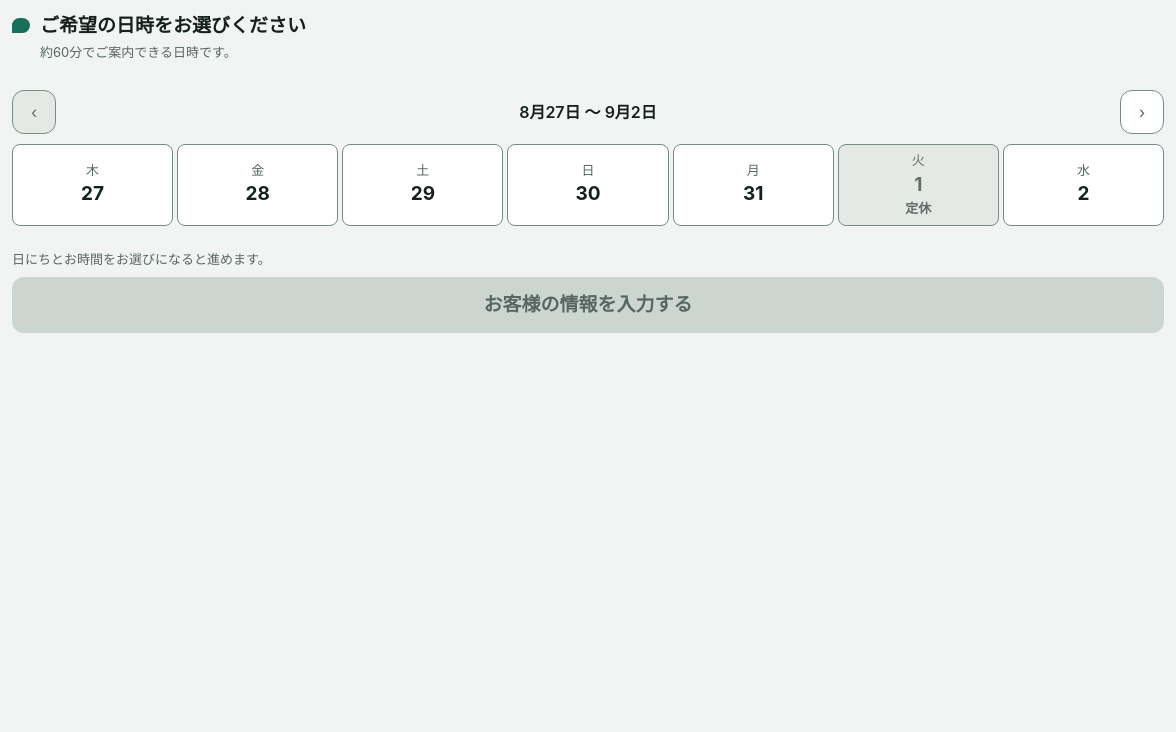
Test: 日時を選ぶ › 押せない理由は色だけでなく文字でも分かる
The image size is (1176, 732).
Step 1. Click the button named "8月29日（土）" → x=423, y=185, box [342, 144, 503, 226]
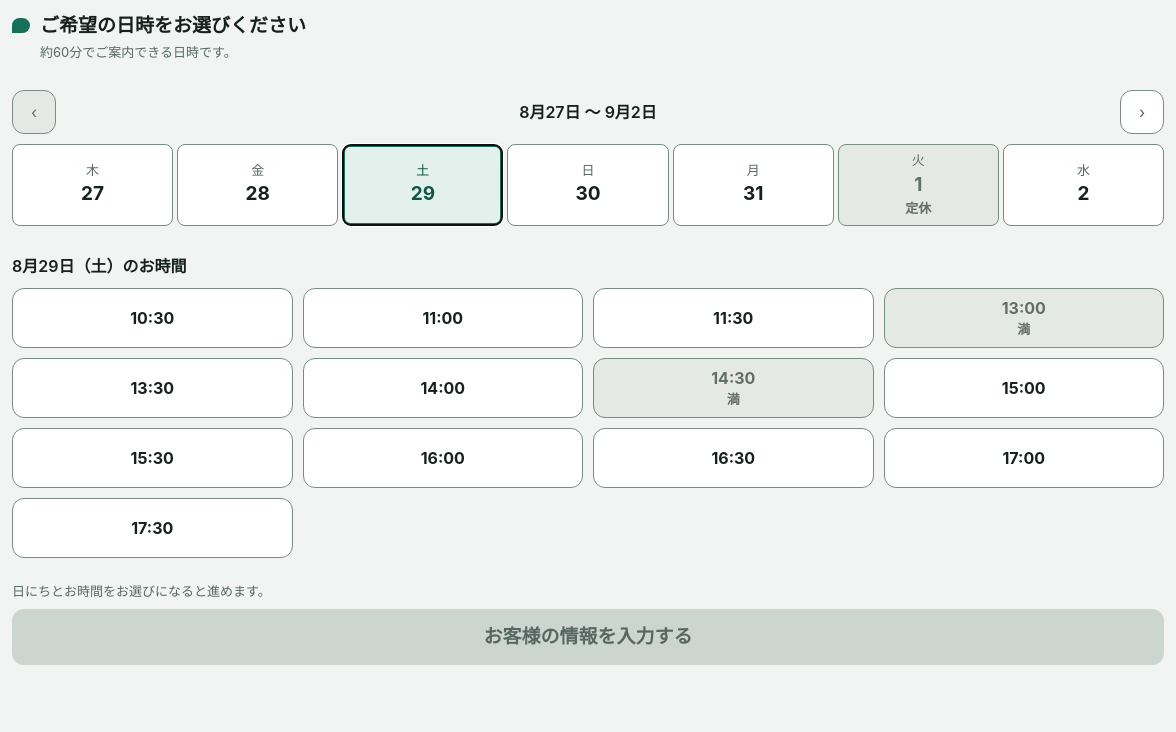
Expected: the button named "9月1日（火）　定休" shows "定休", [838, 144, 999, 226]
Now the button named "13:00　満" shows "満", box [884, 288, 1164, 348]
Now the button named "14:30　満" shows "満", box [593, 358, 874, 418]
